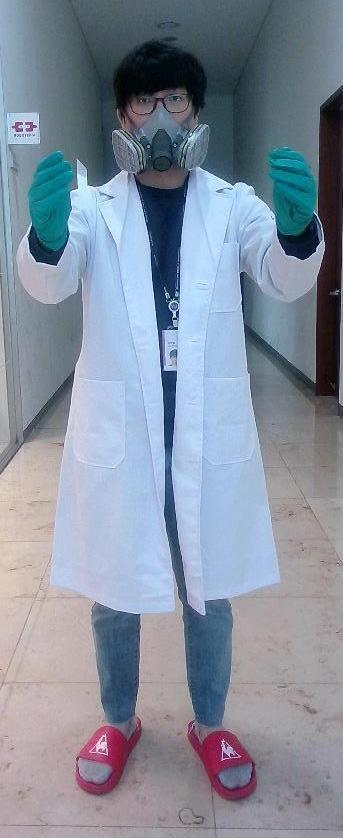lab_coat: (68, 187, 264, 593)
